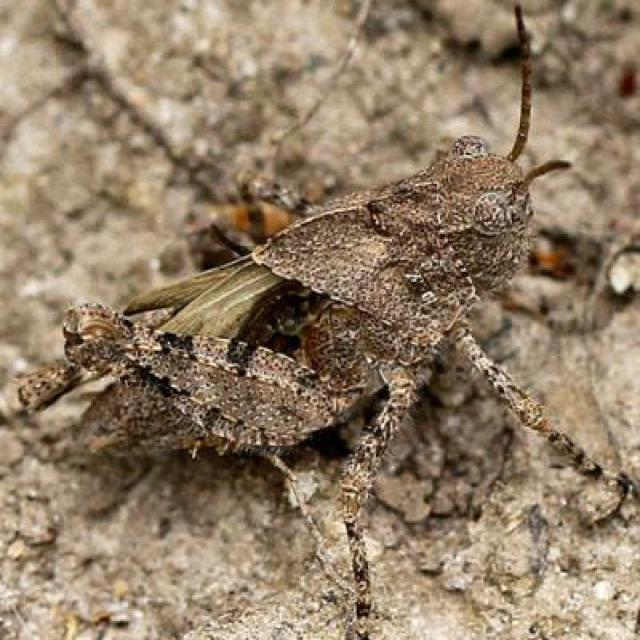antennae: (508, 6, 534, 161), (522, 156, 576, 190)
body: (58, 141, 534, 467)
insect: (16, 2, 638, 640)
legs: (443, 324, 635, 492), (336, 364, 416, 632), (10, 348, 130, 424)
wings: (144, 262, 319, 348), (122, 253, 256, 318)
